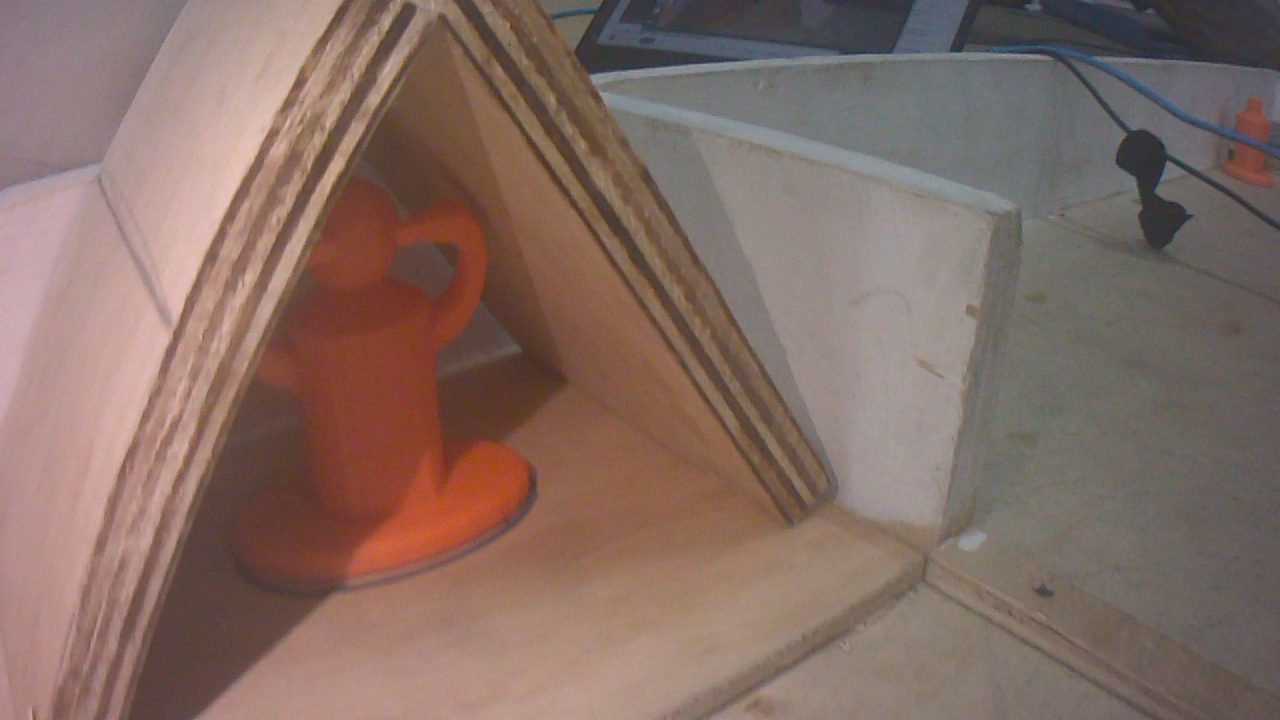real: (233, 174, 525, 591)
